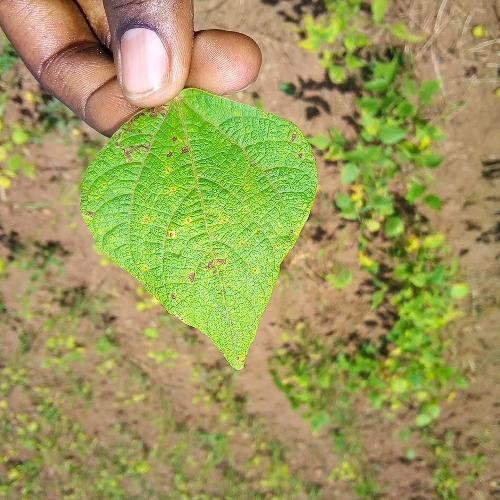hawar: (79, 123, 362, 350)
